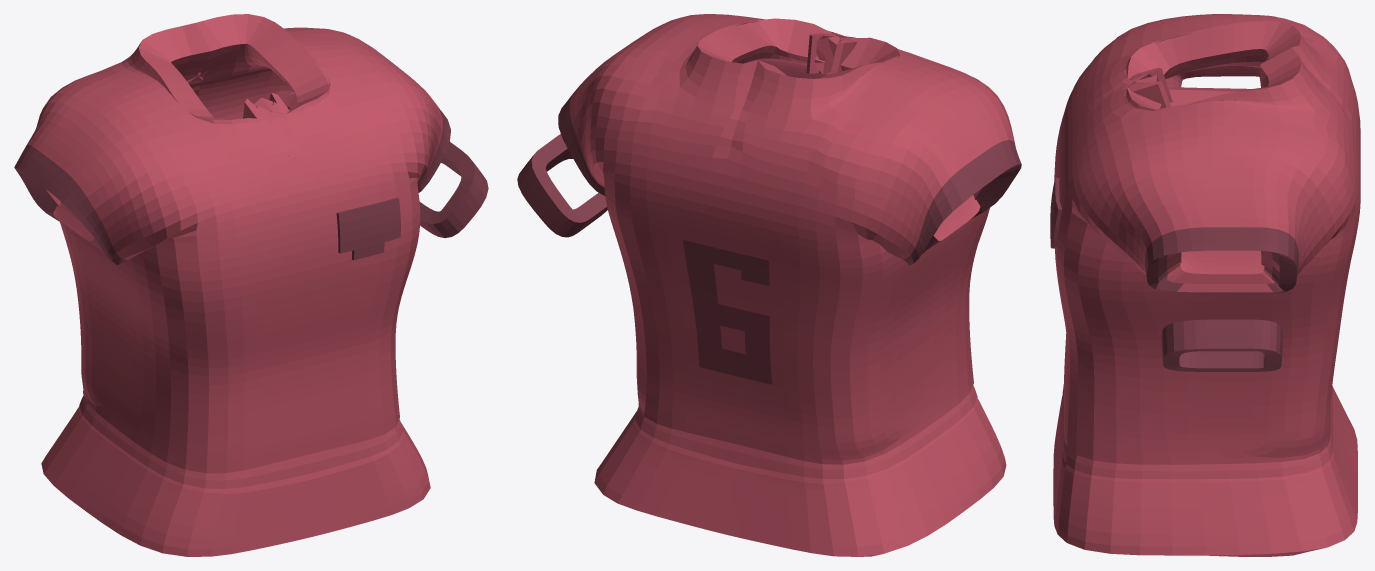
File: Top 2.fbx
3 renders of one model, left to right at view 1: azimuth 30°, elevation 25°; view 2: azimuth 150°, elevation 25°; view 3: azimuth 270°, elevation 25°, orthographic. The views are drawn at different scales.
Parts seen in each view (by area): view 1: Top 2; view 2: Top 2; view 3: Top 2.
Part boxes in pixels (x1=…): Top 2: x1=14, y1=14, x2=488, y2=556; Top 2: x1=517, y1=14, x2=1021, y2=556; Top 2: x1=1050, y1=14, x2=1360, y2=556.
Size of the model in its own units: 99 by 95.63 by 60.05.
